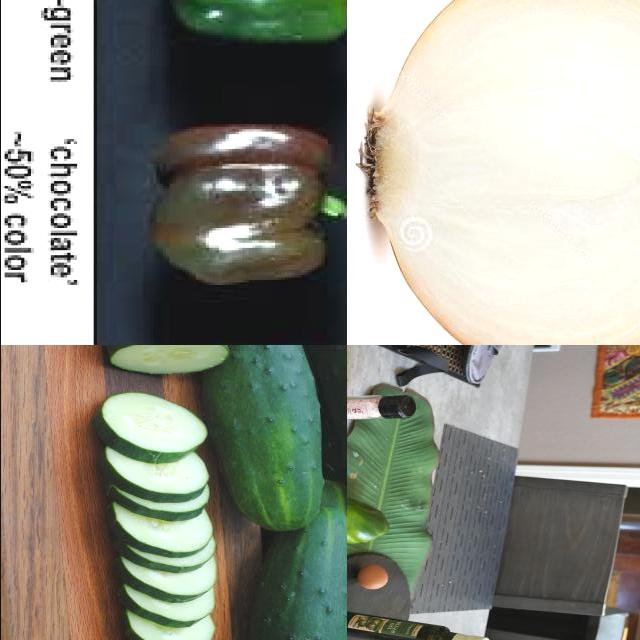bell_pepper: (141, 1, 347, 46), (347, 498, 396, 545)
cucumber: (196, 346, 327, 531), (246, 512, 347, 640), (293, 346, 347, 517)
egg: (354, 567, 387, 592)
onion: (360, 1, 640, 346)
